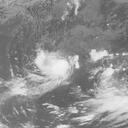cyclone: (39, 52, 72, 84)
